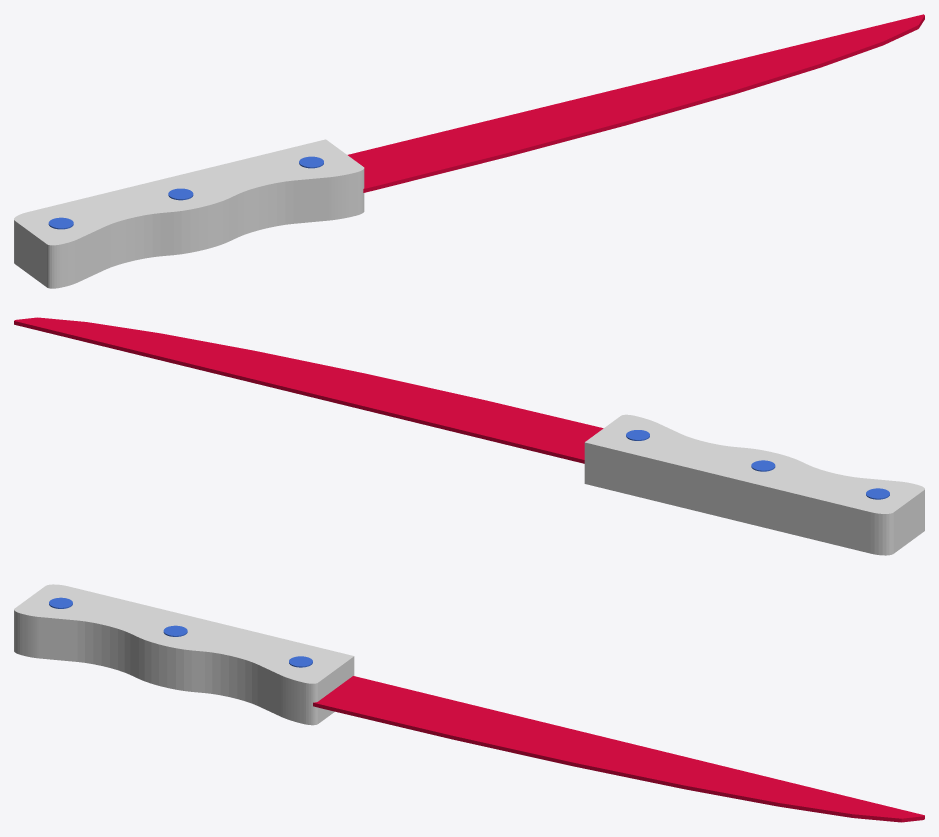
Rendered from Knife.fbx.
3 views of the same model, one above another, from view 1: azimuth 30°, elevation 25°; view 2: azimuth 150°, elevation 25°; view 3: azimuth 330°, elevation 25° (orthographic). The views are drawn at different scales.
Parts seen in each view (by area): view 1: Knife; view 2: Knife; view 3: Knife.
Part boxes in pixels (bbox=[...]): Knife: bbox=[14, 14, 924, 288]; Knife: bbox=[14, 317, 924, 555]; Knife: bbox=[14, 584, 924, 822].
Size of the model in its own units: 1354 by 64.57 by 107.
